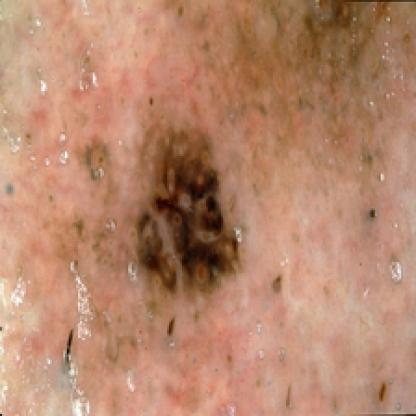malignant: (102, 115, 242, 305)
